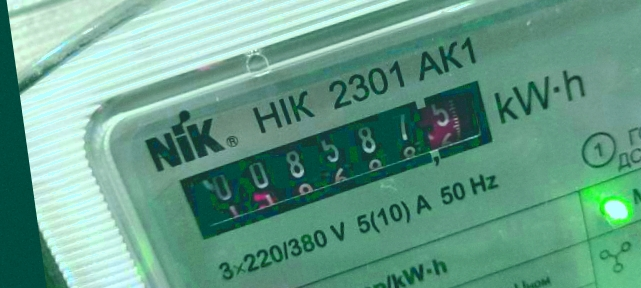0: (243, 154, 273, 191), (206, 167, 236, 203)
5: (316, 131, 343, 165), (426, 94, 452, 128)
6: (436, 128, 456, 148)
7: (389, 108, 415, 145)
8: (281, 145, 309, 180), (352, 120, 379, 156)
screen: (162, 75, 523, 243)
